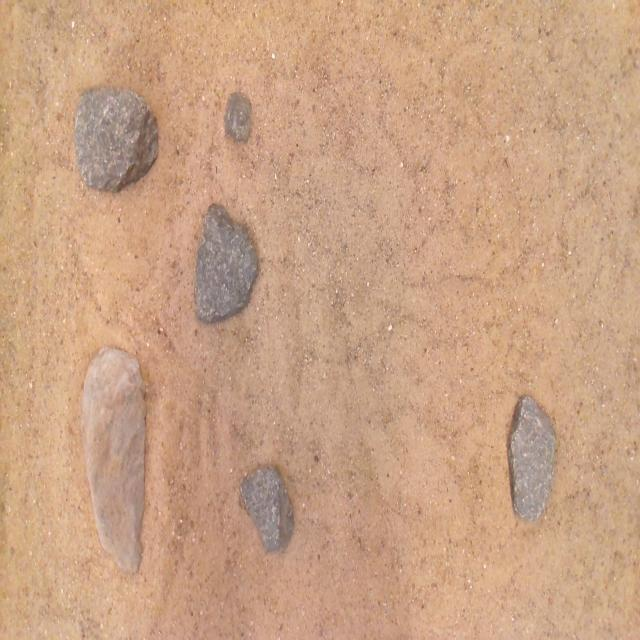rock: (82, 348, 146, 572), (75, 88, 157, 191), (195, 204, 258, 322), (508, 396, 555, 521), (240, 466, 294, 552), (224, 92, 251, 140)
